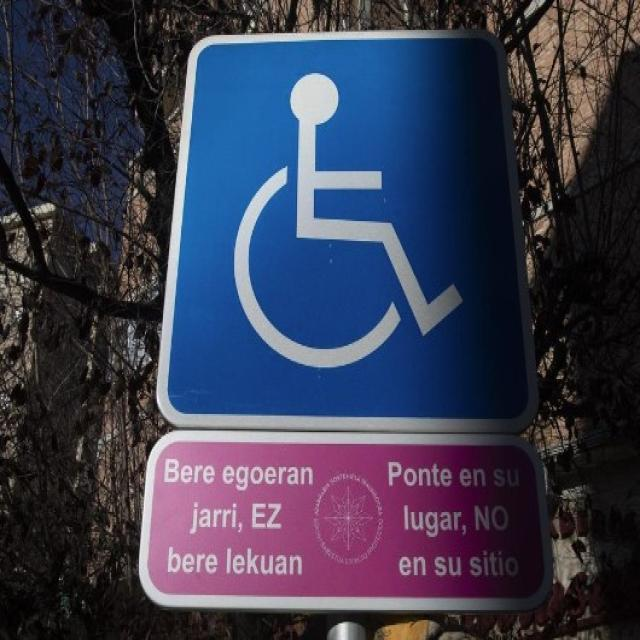symbol_of_access: (154, 24, 542, 436)
